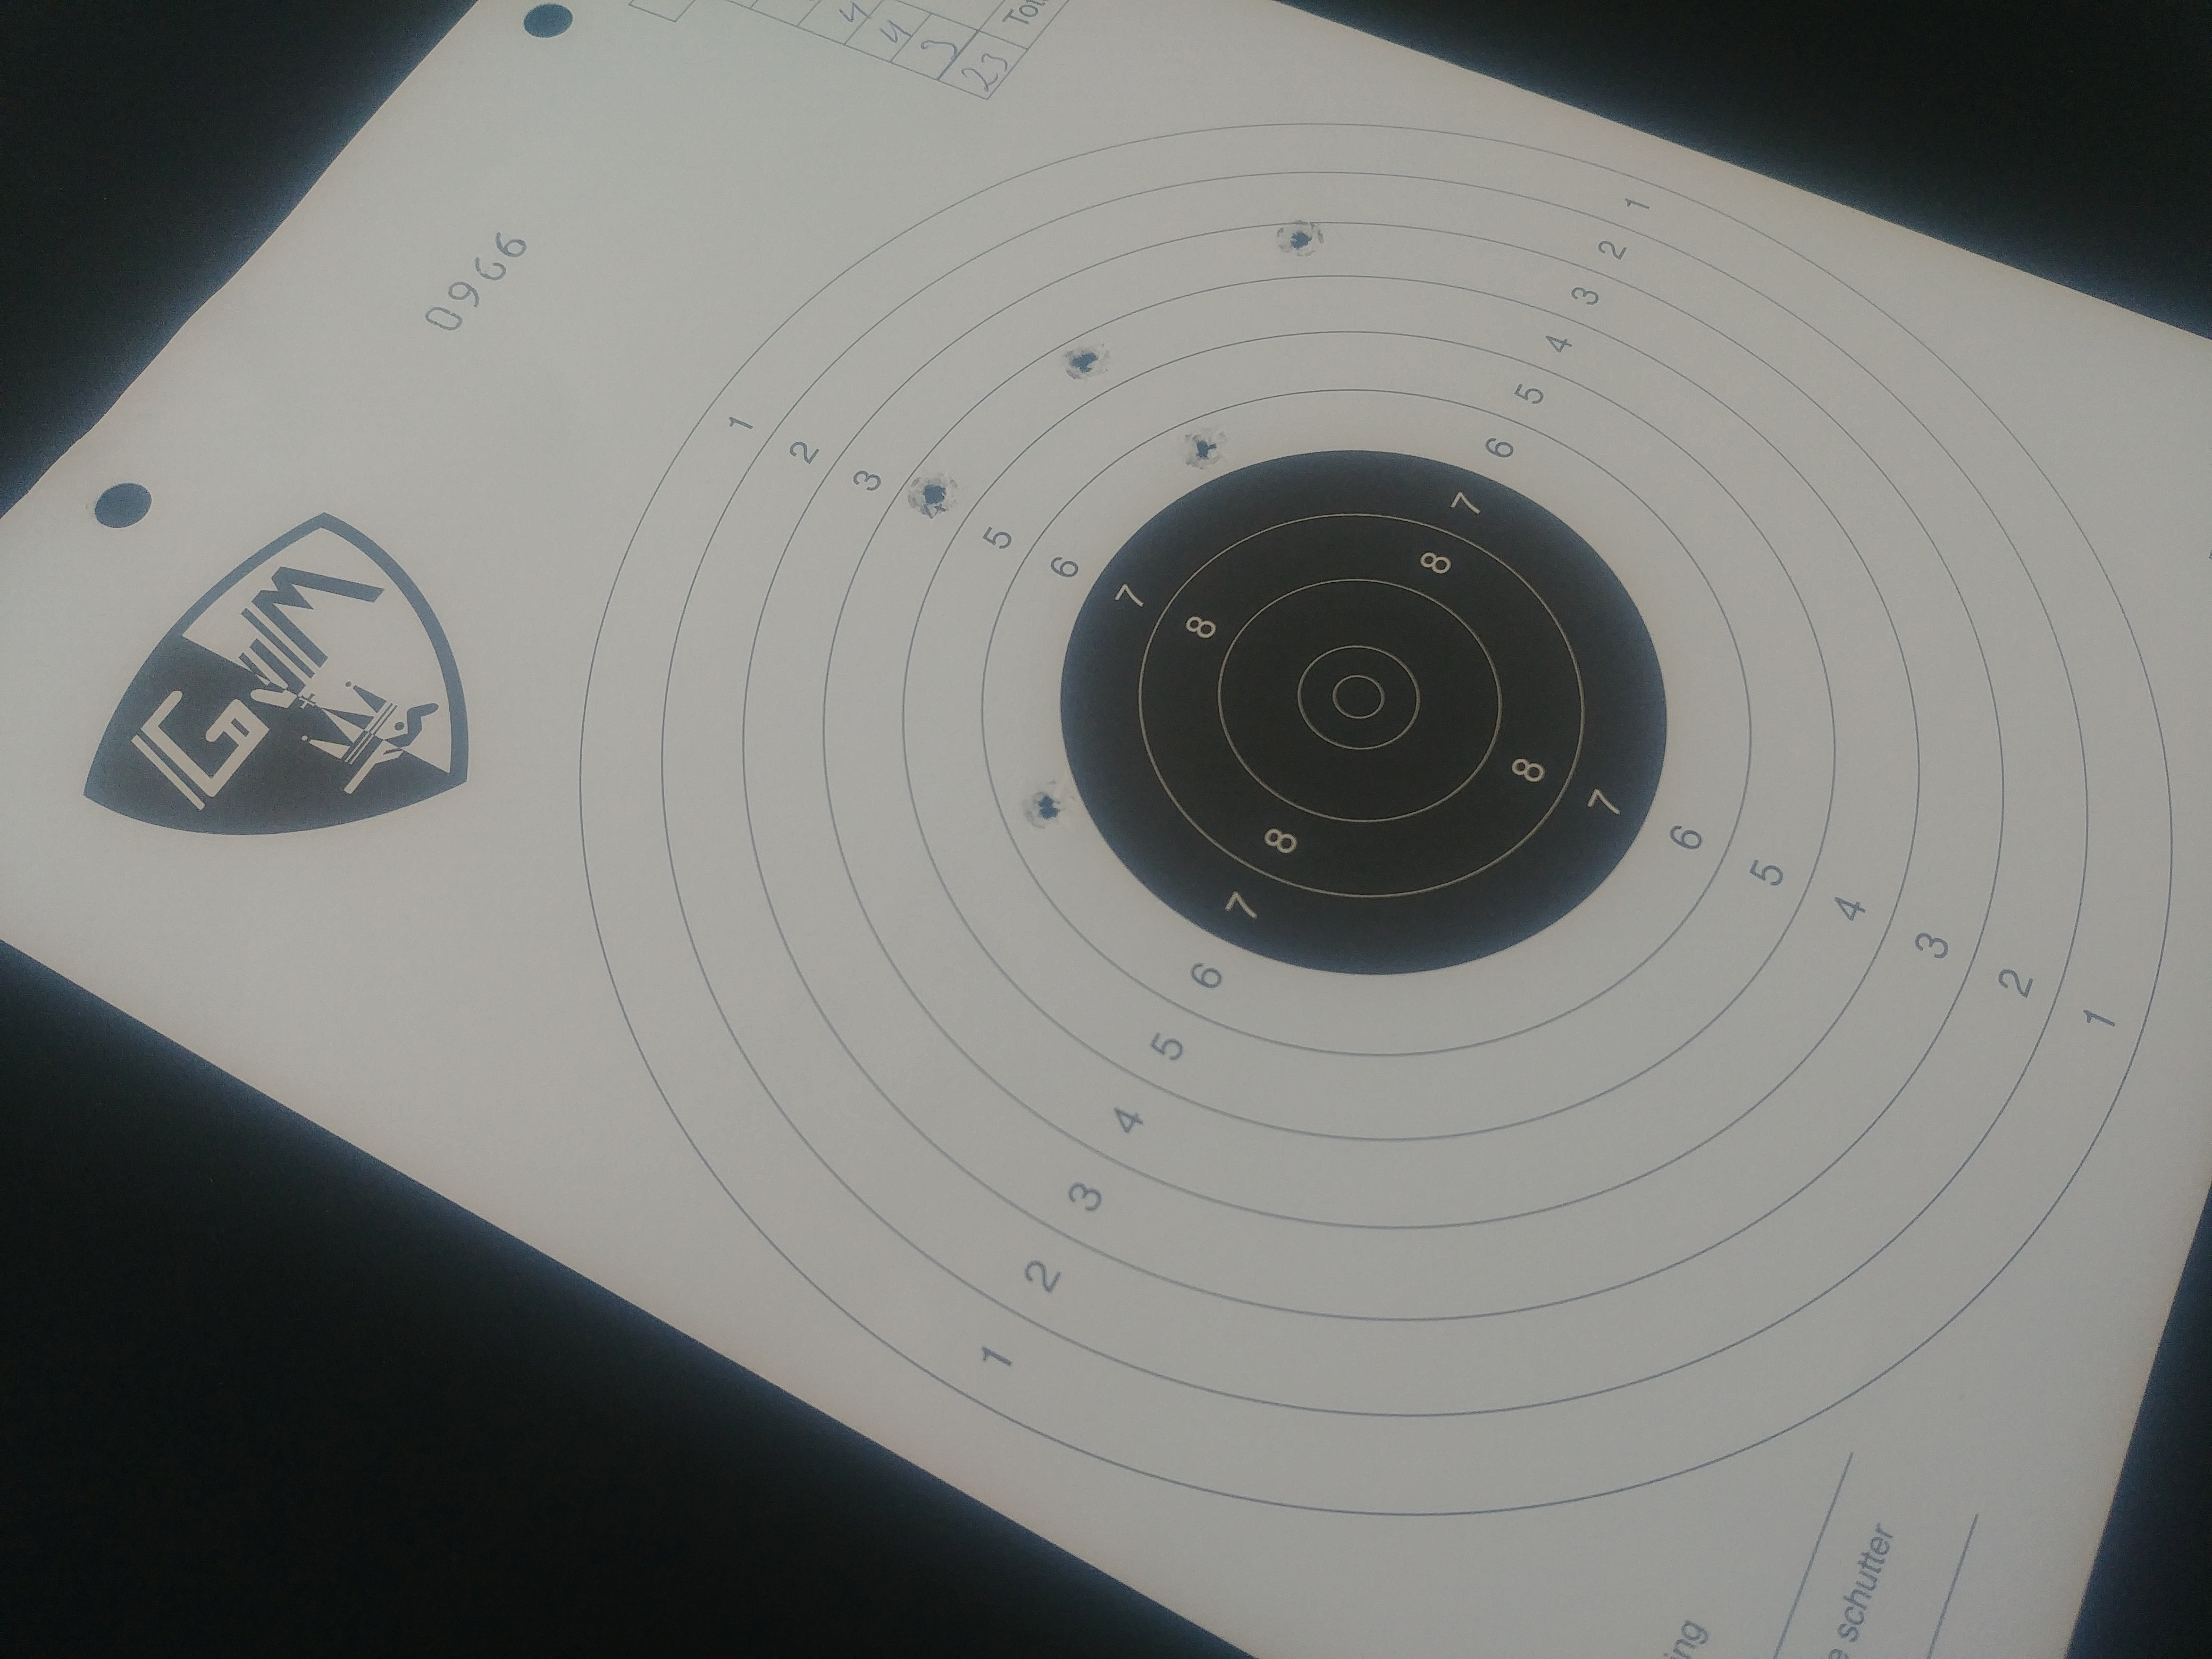center: (1059, 450, 1669, 976)
out: (577, 120, 2174, 1514)
shot: (904, 464, 965, 519), (1021, 777, 1075, 829), (1181, 423, 1230, 471), (1061, 340, 1116, 380), (1273, 218, 1325, 258)
target: (1296, 645, 1421, 751)
